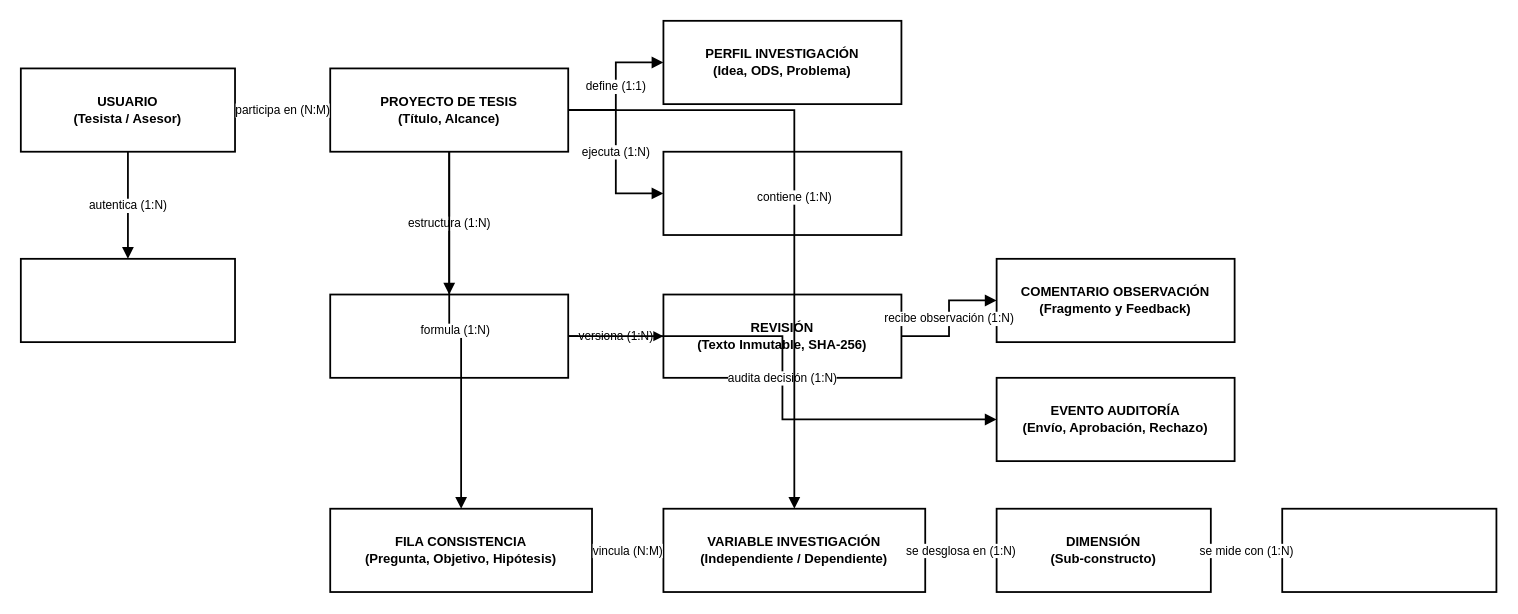
The diagram is 1518 pixels wide and 614 high, and some of its shapes have lost their labels. Here are the shapes that lost their labels. From the top down, the centre of each, then its label:
[782,192]: PASO METODOLÓGICO (P01..P12 / Avance)
[127,299]: TOKEN ACCESO (Credencial MCP)
[449,335]: CAPÍTULO (Capítulos 1, 2, 3)
[1389,549]: INDICADOR (Escala, Medición P12)
